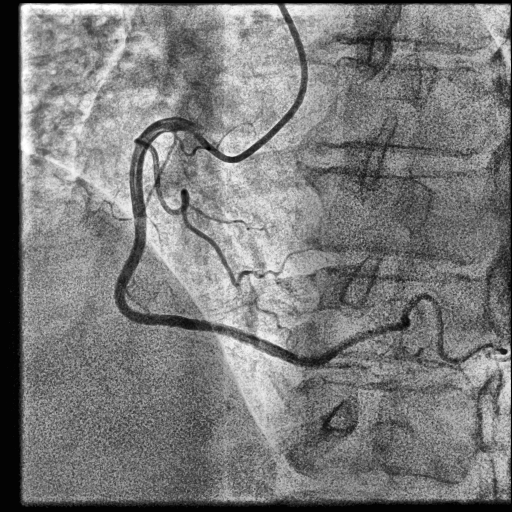pborca: (318, 293, 506, 365)
rca: (115, 117, 310, 369)
